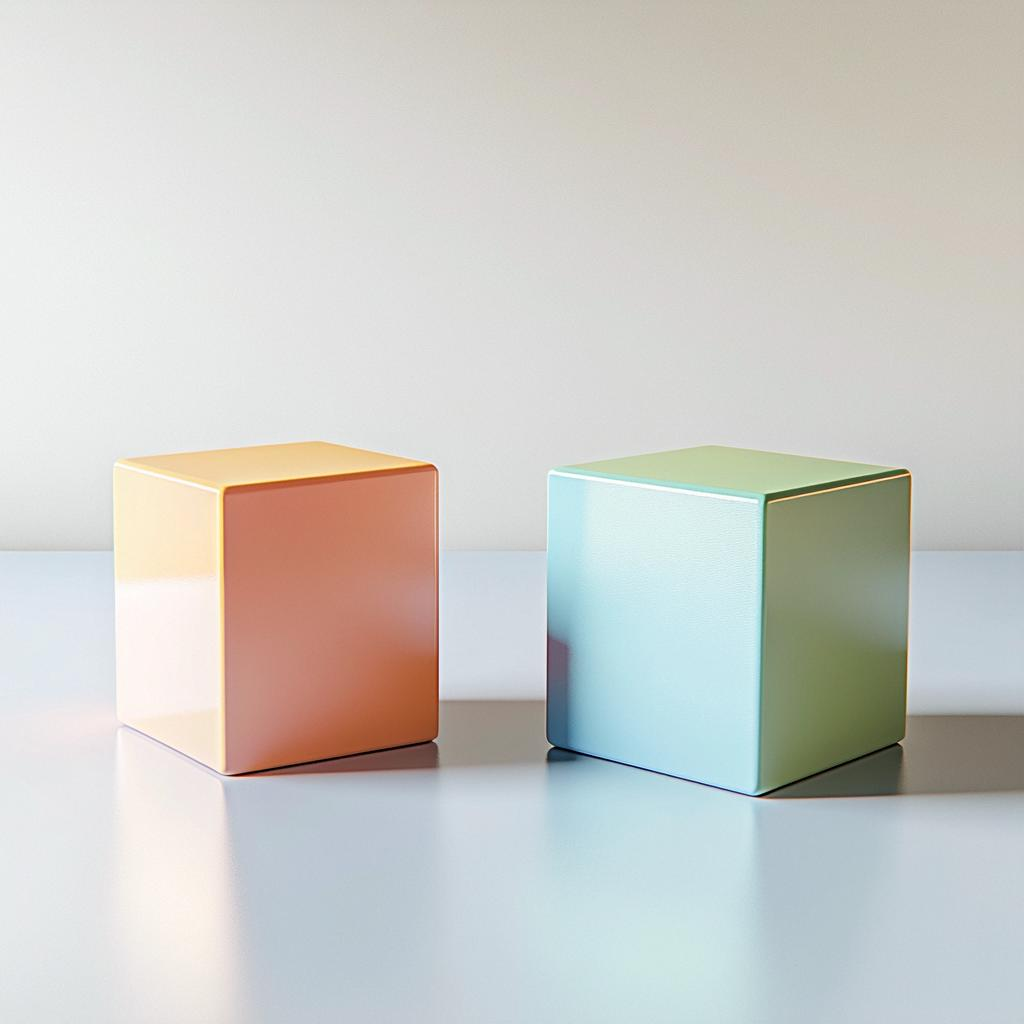cube: (544, 442, 912, 796), (111, 439, 440, 776)
